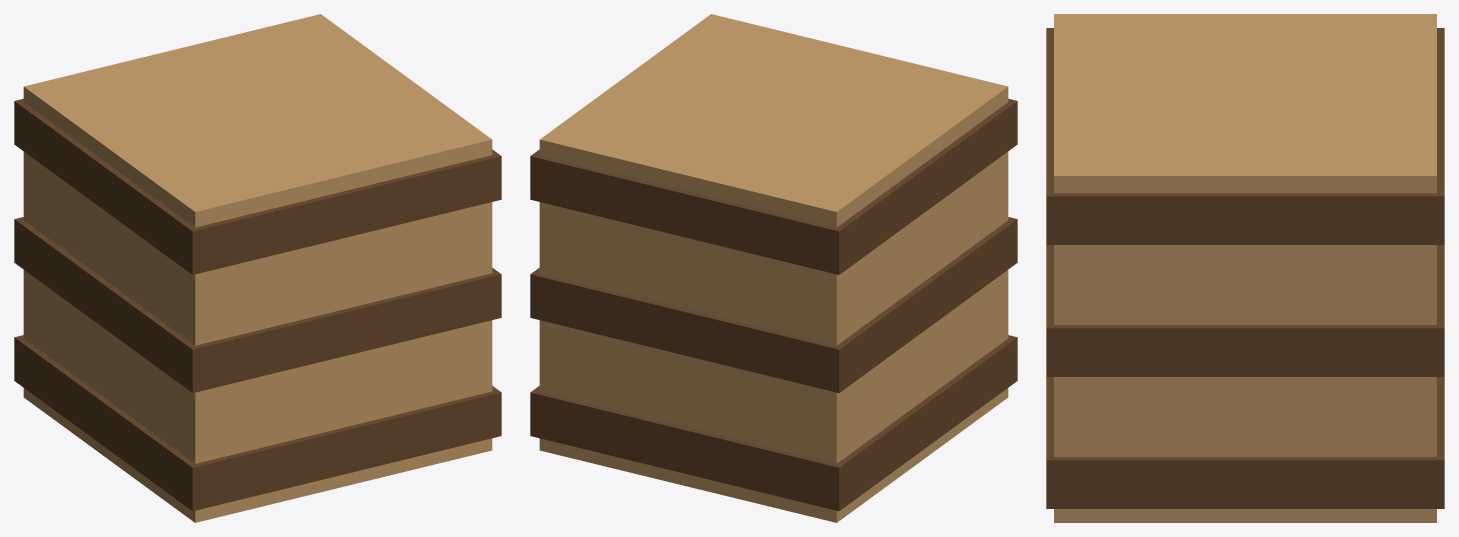
Rendered from GT_Crate_01.glb.
The picture shows the model from 3 angles, left to right: view 1: azimuth 30°, elevation 25°; view 2: azimuth 150°, elevation 25°; view 3: azimuth 270°, elevation 25°; orthographic projection. The views are drawn at different scales.
Parts seen in each view (by area): view 1: GT_Crate_01; view 2: GT_Crate_01; view 3: GT_Crate_01.
Part boxes in pixels (x1=…): GT_Crate_01: x1=14, y1=14, x2=501, y2=522; GT_Crate_01: x1=530, y1=14, x2=1017, y2=522; GT_Crate_01: x1=1046, y1=14, x2=1444, y2=522.
Bounding box in the file's own units: 0.52 × 0.5 × 0.52.
1 material, 1 textured.
